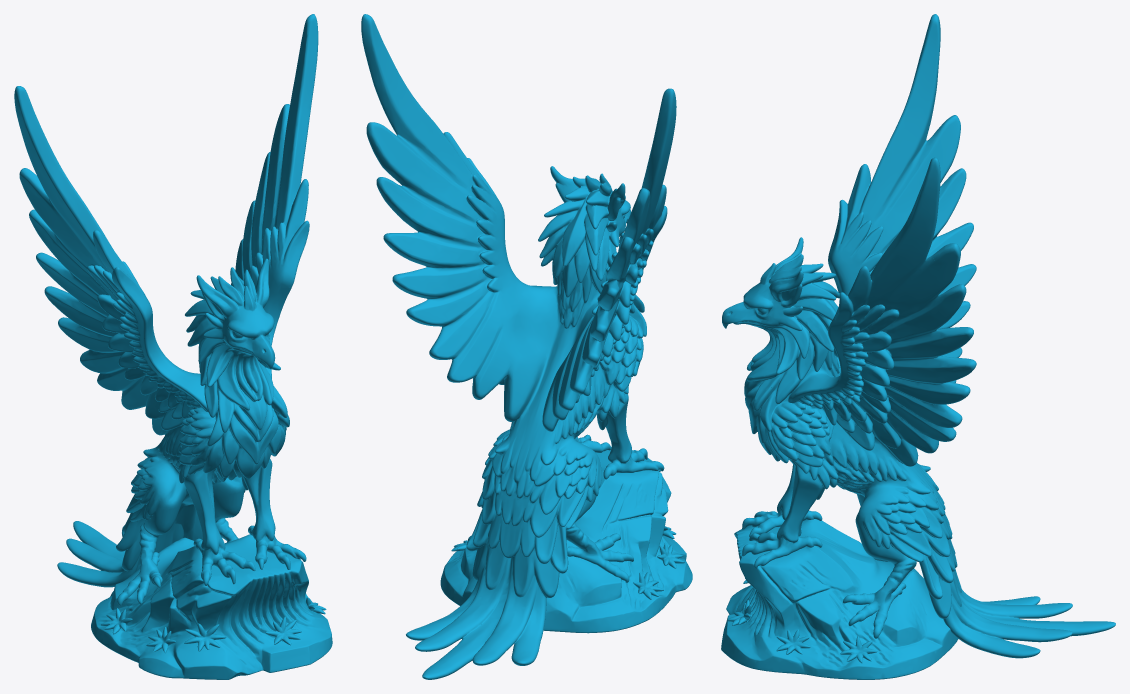
File: griffin.glb
3 views of the same model, side by side, from view 1: azimuth 30°, elevation 25°; view 2: azimuth 150°, elevation 25°; view 3: azimuth 270°, elevation 25° (orthographic). The views are drawn at different scales.
Parts seen in each view (by area): view 1: Object_2, Object_4, Object_3; view 2: Object_2, Object_4, Object_3; view 3: Object_2, Object_4, Object_3.
Part boxes in pixels (left/top/right/bottom): Object_2: left=14, top=14, right=318, bottom=605; Object_4: left=91, top=534, right=332, bottom=679; Object_3: left=21, top=38, right=317, bottom=591; Object_2: left=361, top=14, right=676, bottom=679; Object_4: left=440, top=446, right=692, bottom=633; Object_3: left=366, top=34, right=671, bottom=663; Object_2: left=722, top=14, right=1115, bottom=658; Object_4: left=721, top=519, right=958, bottom=679; Object_3: left=745, top=17, right=1112, bottom=636.
Size of the model in its own units: 0.7215 by 1.25 by 0.8205.
